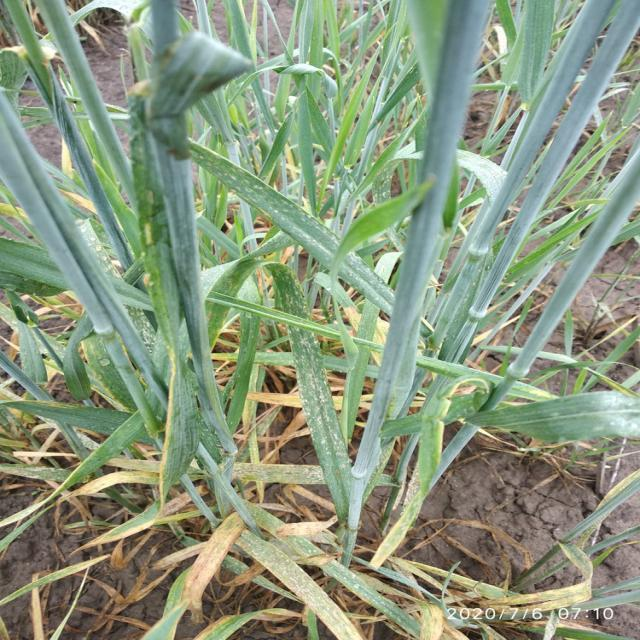wheat-powdery-mildew: (292, 325, 347, 462)
